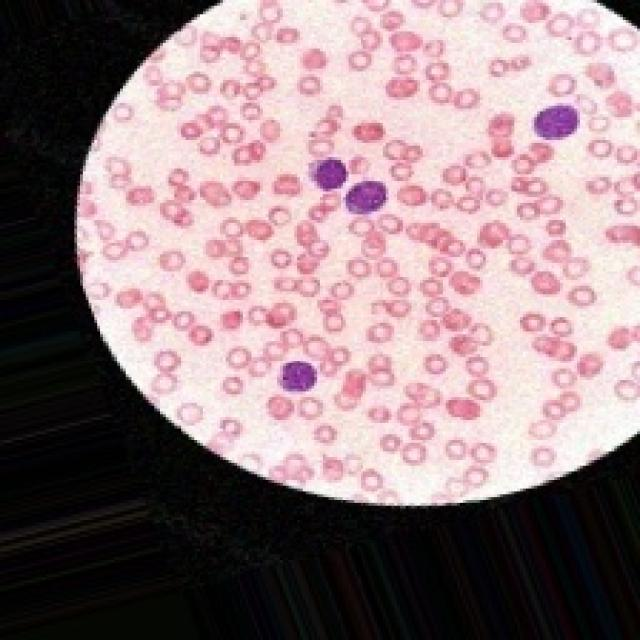Spherical_bacteria: (72, 0, 637, 509)
